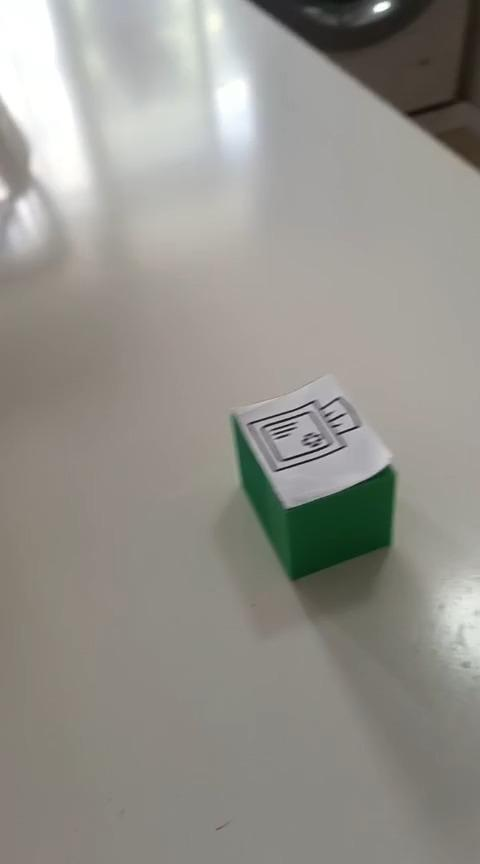Gauze: (228, 372, 397, 581)
